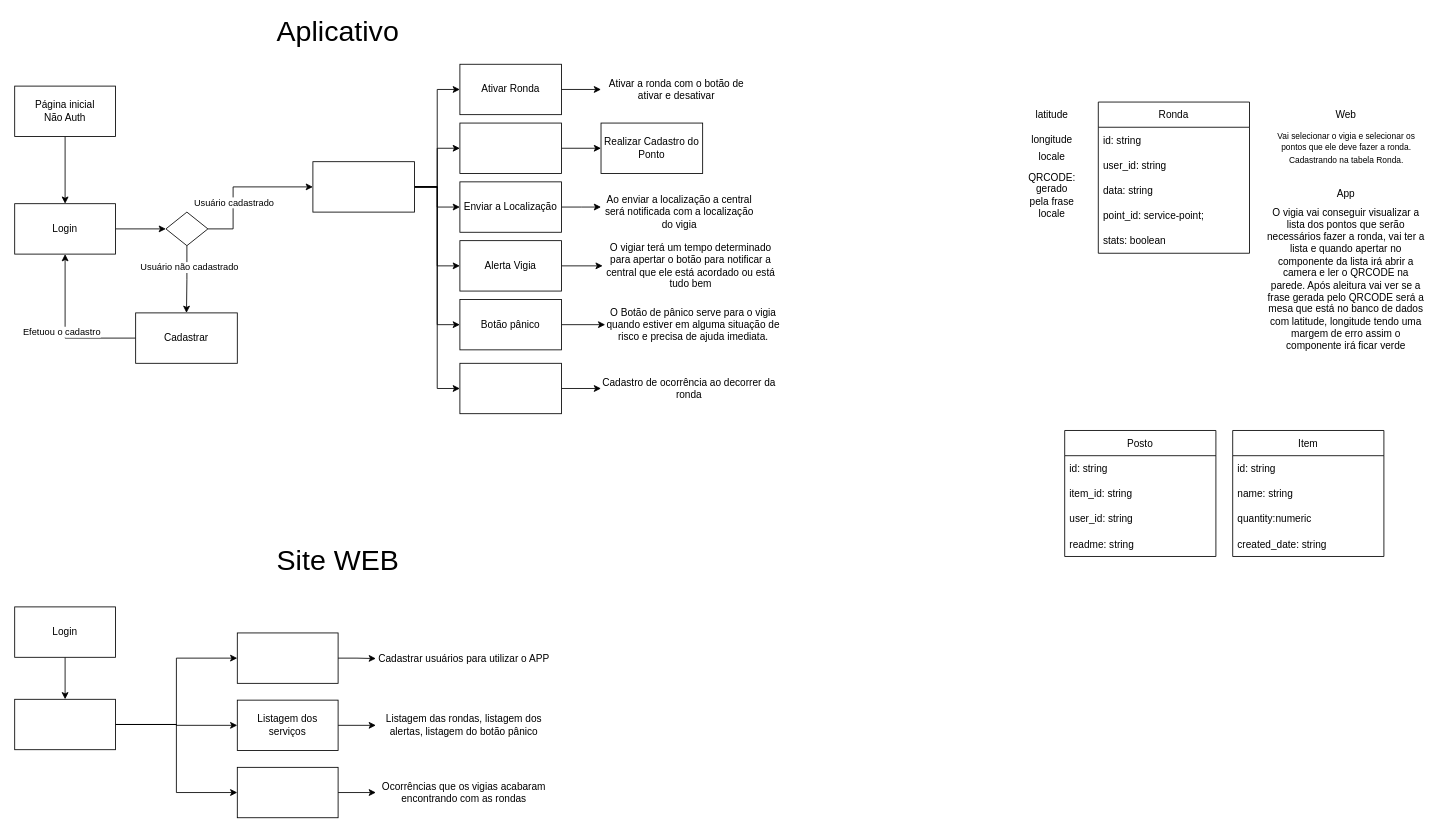
Image size: 1441x832. Some labels were removed from this diagram. Here are the shapes that lost their labels. From the top down, the centre of each, then its label:
(x=510, y=147): Cadastrar Ponto
(x=363, y=186): Página inicial Auth
(x=510, y=388): Ocorrência
(x=287, y=657): Cadastro de usuário
(x=65, y=724): Página Inicial
(x=287, y=792): Ocorrências
